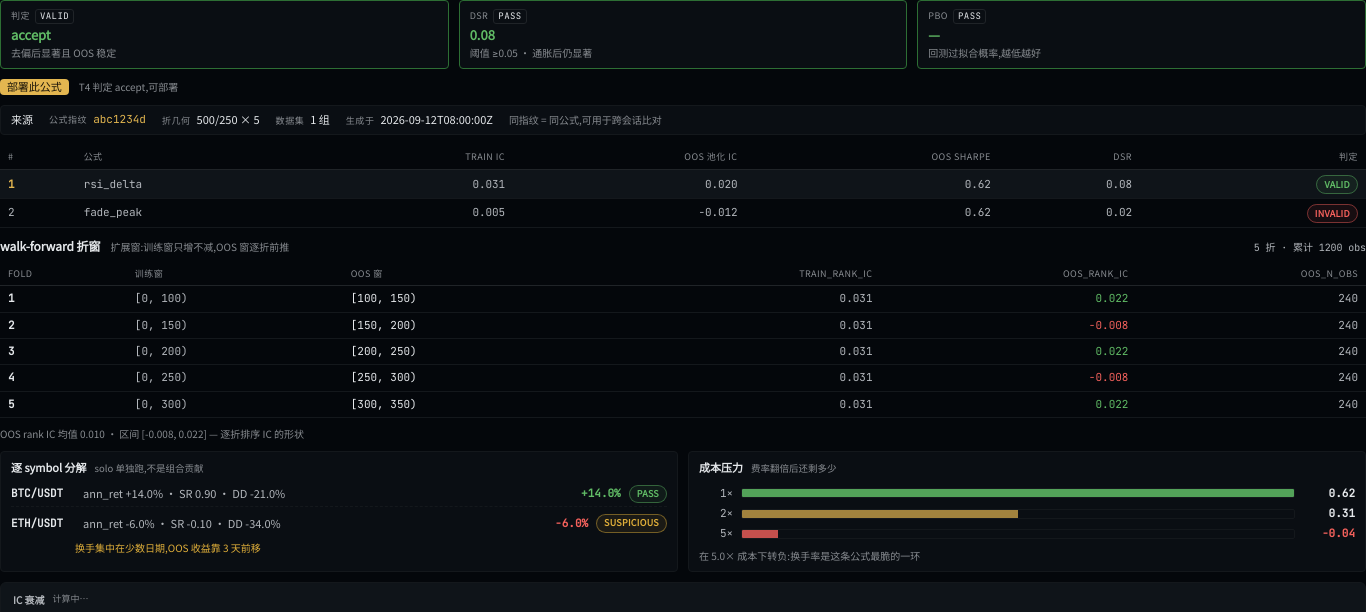
ValidationPane(US-005) › 治理语义:决策行呈现 decision + reason;deploy 按钮 accept 可点且经 tokens 联结调 deployFormula
Check: the element with class "decision-row" shows "accept", box x1=11 y1=25 x2=51 y2=44
Check: the element with class "decision-row" shows "去偏后显著且 OOS 稳定", box x1=11 y1=45 x2=116 y2=60
Click the button with test id "deploy-formula" at (34, 87), box x1=0 y1=79 x2=69 y2=95
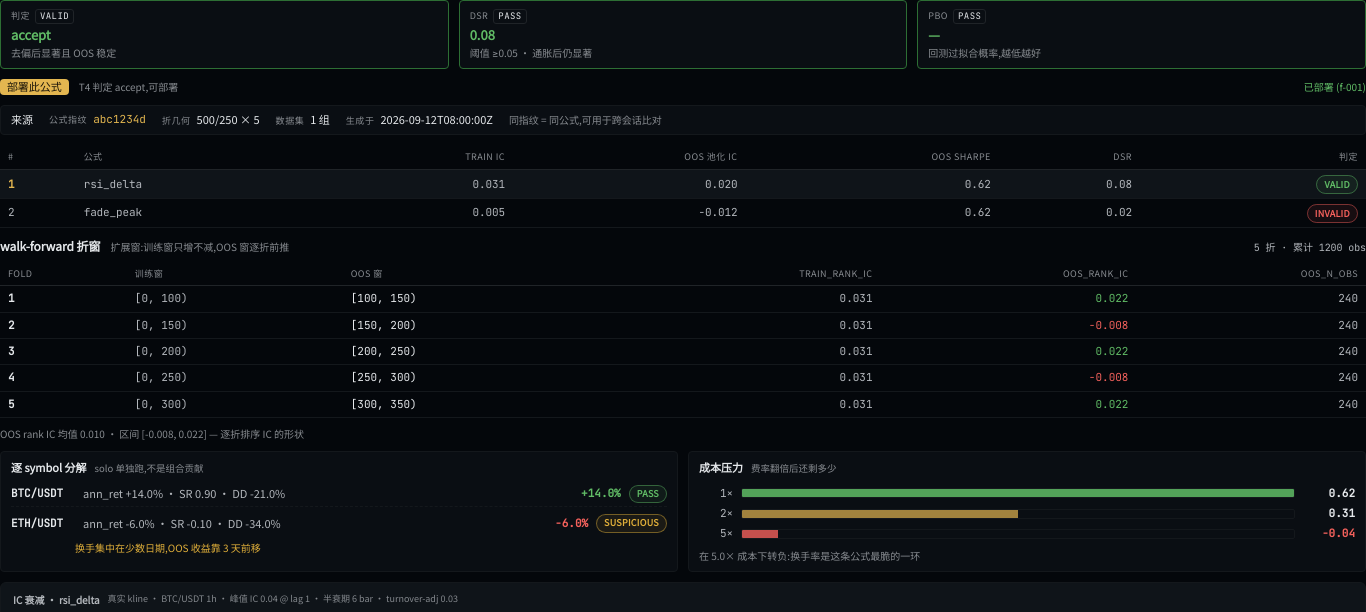
Check: the text "已部署 (f-001)" is shown, box x1=1304 y1=80 x2=1365 y2=94
